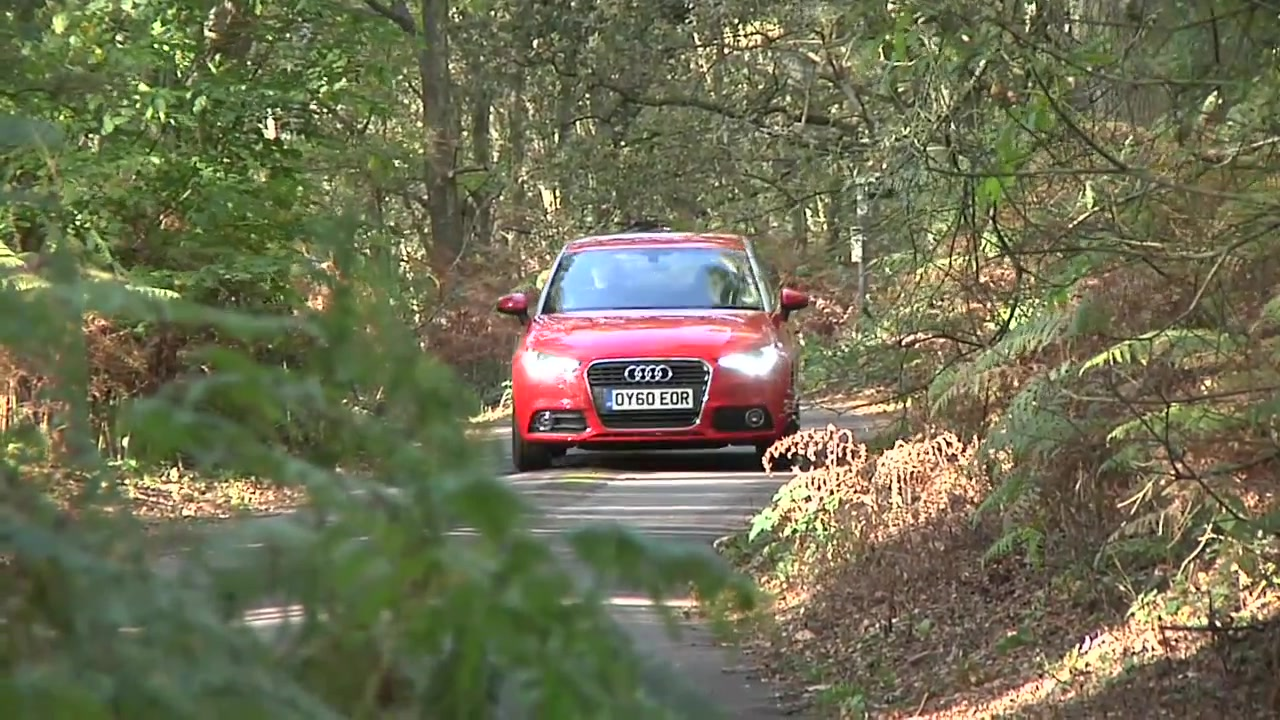car: (493, 232, 812, 468)
